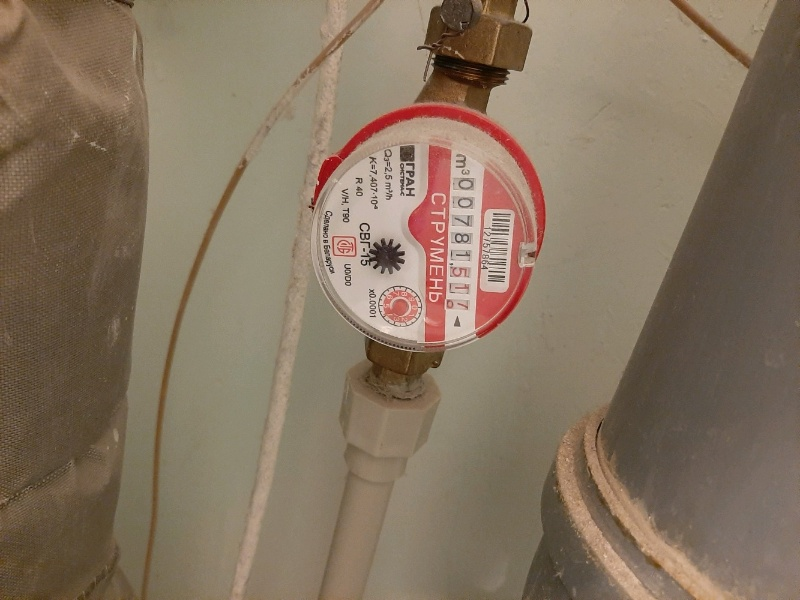meter: (448, 171, 480, 312)
